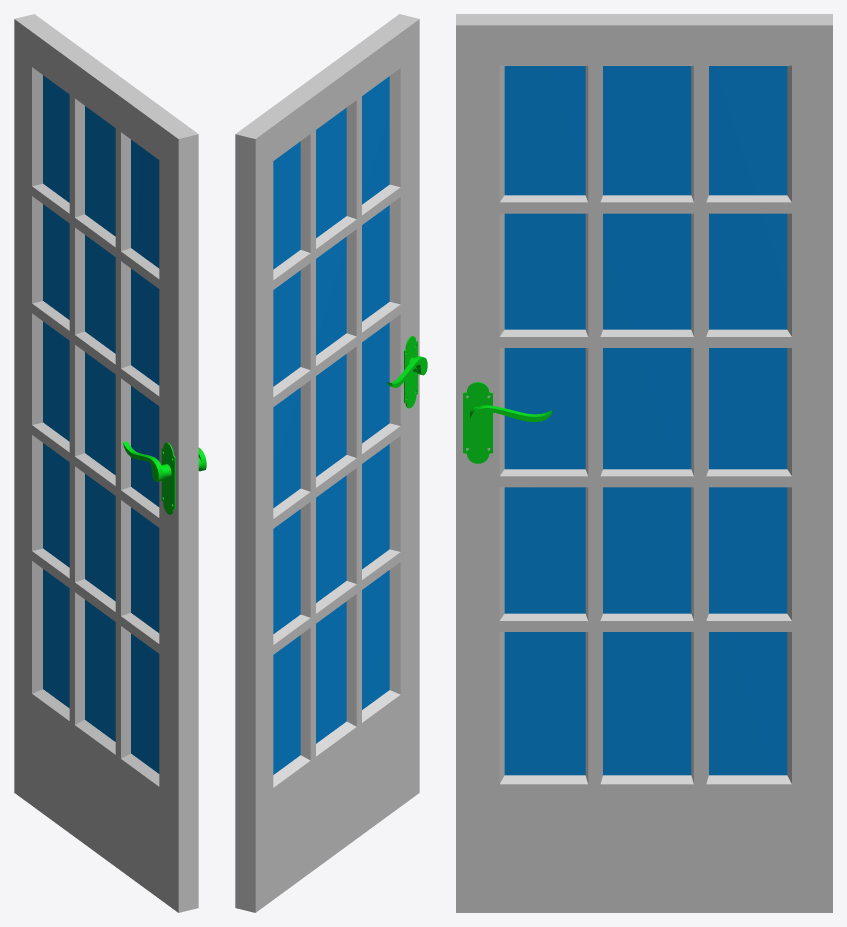
File: door.fbx
3 views of the same model, side by side, from view 1: azimuth 30°, elevation 25°; view 2: azimuth 150°, elevation 25°; view 3: azimuth 270°, elevation 25° (orthographic). The views are drawn at different scales.
Parts seen in each view (by area): view 1: 1.011; view 2: 1.011; view 3: 1.011.
Part boxes in pixels (<box>): 1.011: <box>14,14,206,912</box>; 1.011: <box>235,14,427,912</box>; 1.011: <box>456,14,832,912</box>.
Size of the model in its own units: 26.51 by 407 by 157.
